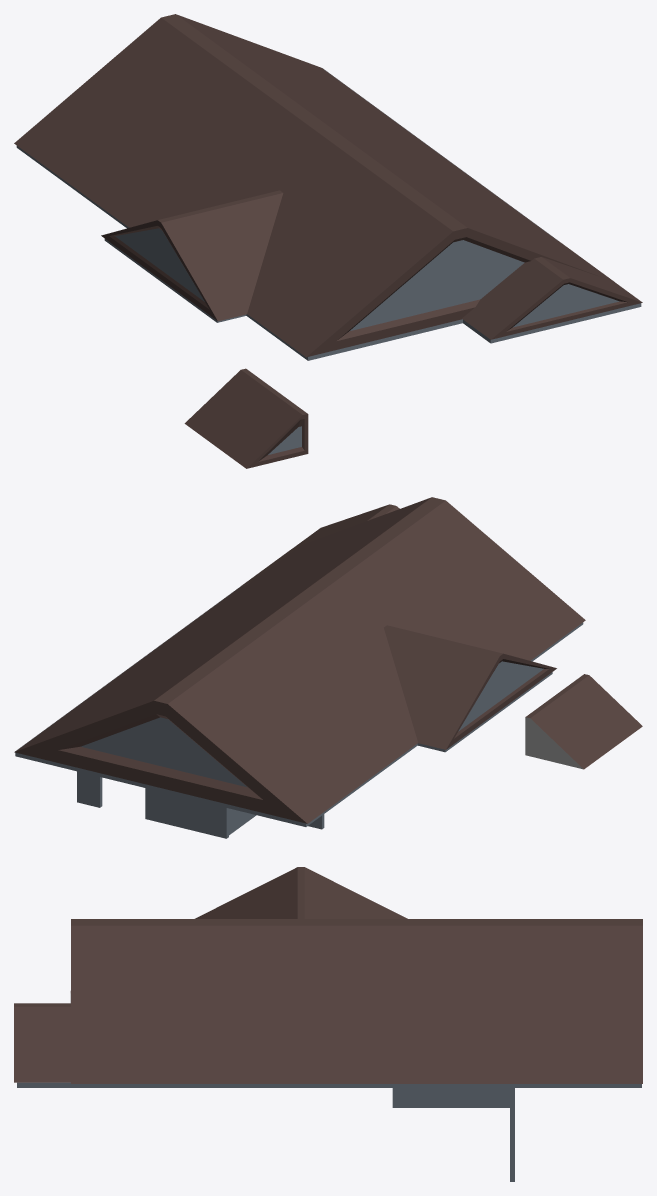
Rendered from RoofTogether.fbx.
3 views of the same model, one above another, from view 1: azimuth 30°, elevation 25°; view 2: azimuth 150°, elevation 25°; view 3: azimuth 270°, elevation 25° (orthographic). The views are drawn at different scales.
Parts seen in each view (by area): view 1: Roof, Roof2, Roof3, Roof4, Roof1; view 2: Roof, Roof2, Roof4, Wall_1_Door2, Roof1, Roof3; view 3: Roof, Roof2, Roof3, Roof1, Wall10, Wall_1_Door2.
Part boxes in pixels (box(x1,y1,x2,y2)): Roof: box(14, 14, 608, 357); Roof2: box(101, 190, 283, 321); Roof3: box(462, 238, 642, 339); Roof4: box(184, 368, 308, 468); Roof1: box(16, 68, 641, 360); Roof: box(14, 497, 585, 823); Roof2: box(384, 625, 556, 749); Roof4: box(525, 674, 642, 769); Wall_1_Door2: box(77, 771, 228, 838); Roof1: box(15, 586, 583, 826); Roof3: box(241, 504, 399, 586); Roof: box(71, 919, 642, 1083); Roof2: box(195, 867, 407, 918); Roof3: box(14, 1003, 178, 1082); Roof1: box(17, 1082, 641, 1087); Wall10: box(392, 1088, 509, 1107); Wall_1_Door2: box(510, 1087, 514, 1181).
Size of the model in its own units: 624 by 308 by 942.
